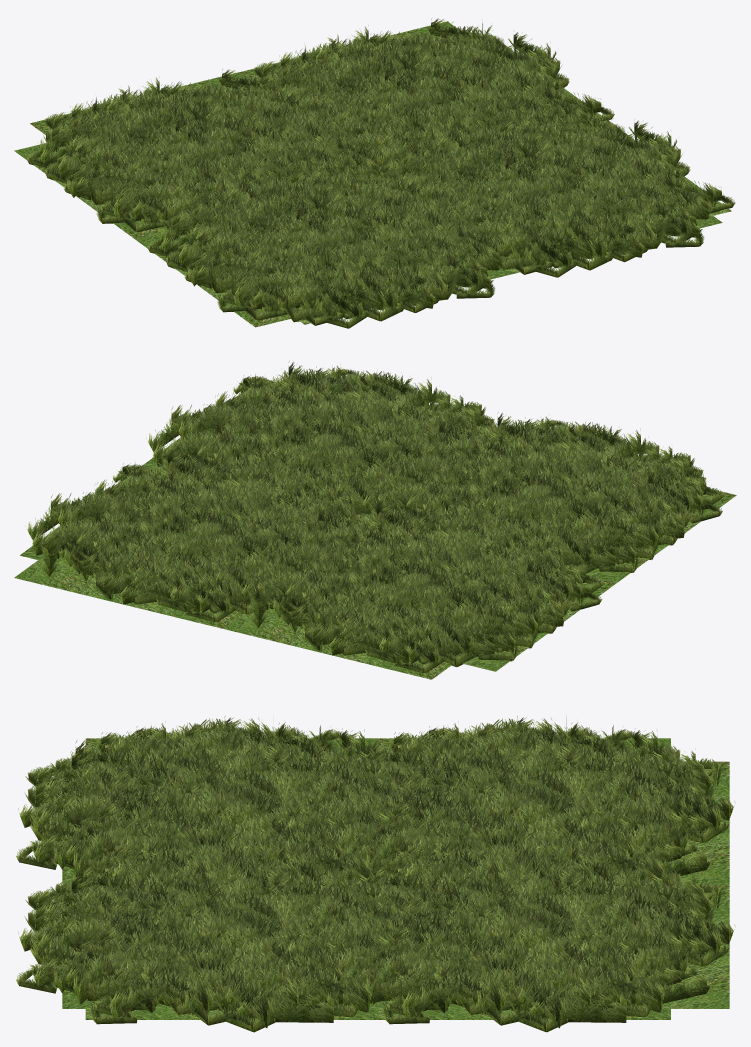
Rendered from realistic_grass.glb.
3 views of the same model, one above another, from view 1: azimuth 30°, elevation 25°; view 2: azimuth 150°, elevation 25°; view 3: azimuth 270°, elevation 25° (orthographic). The views are drawn at different scales.
Parts seen in each view (by area): view 1: Material2 (×2); view 2: Material2 (×2); view 3: Material2 (×2).
Boxes of the visible parts, x1,y1,x2,y2 form: Material2 (×2): [14, 18, 735, 328]; Material2 (×2): [14, 360, 736, 679]; Material2 (×2): [16, 716, 735, 1032].
Bounding box in the file's own units: 95.85 × 5.1 × 97.27.
Materials: 2 (2 with a texture image).
